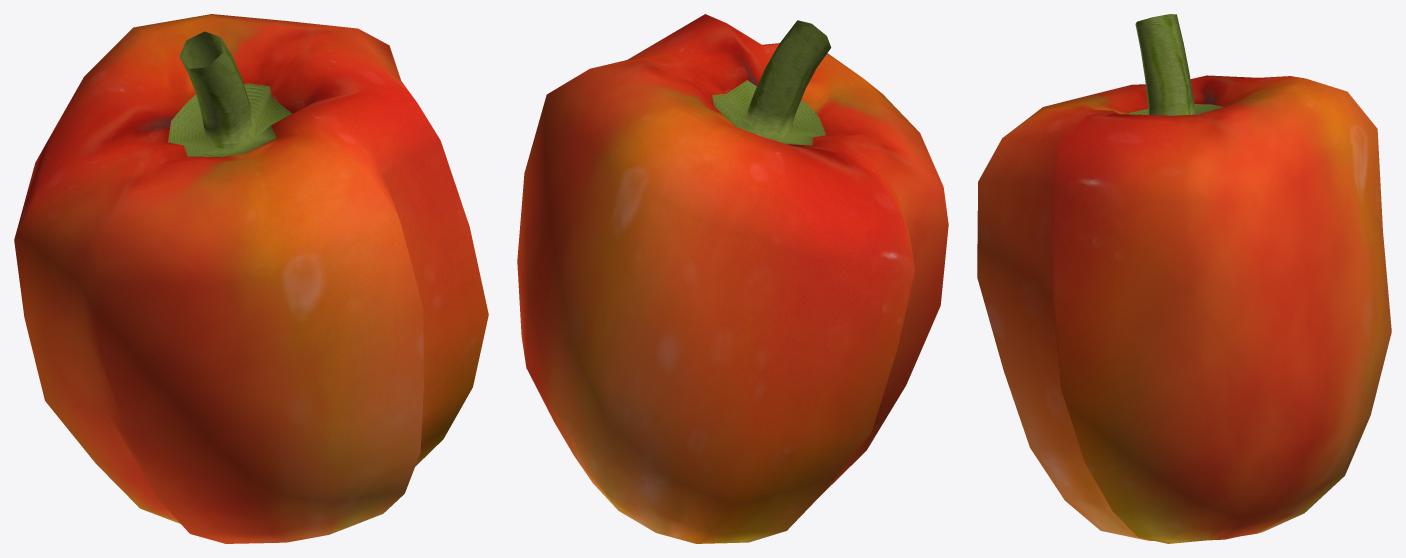
The model's file is VG07_5_fruit1.dae.
3 views of the same model, side by side, from view 1: azimuth 30°, elevation 25°; view 2: azimuth 150°, elevation 25°; view 3: azimuth 270°, elevation 25° (orthographic). The views are drawn at different scales.
Visible parts, largest first — view 1: VG07_024; view 2: VG07_024; view 3: VG07_024.
Boxes of the visible parts, box(x1,y1,x2,y2) form: VG07_024: box(14, 14, 488, 543); VG07_024: box(517, 14, 948, 543); VG07_024: box(977, 14, 1391, 543).
Size of the model in its own units: 0.0498 by 0.0473 by 0.0614.
Materials: 2 (2 with a texture image).
